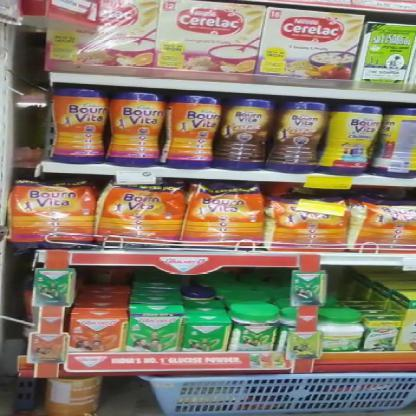Glucon D Regular 1-KG: (130, 312, 184, 356), (186, 322, 238, 355)
Glucon D Regular 2-KG: (233, 300, 282, 355)
Glucon D Tangy orange 1-KG: (68, 318, 126, 359)
